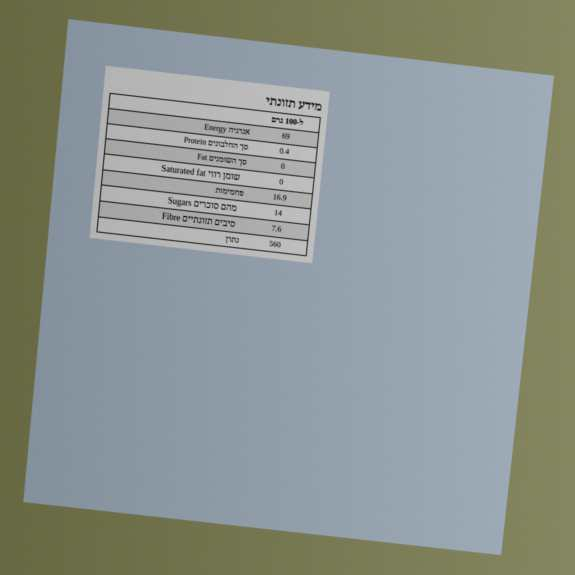carbs: (271, 191, 288, 204)
energy: (280, 130, 291, 143)
fat: (279, 161, 286, 173)
protein: (278, 145, 291, 158)
